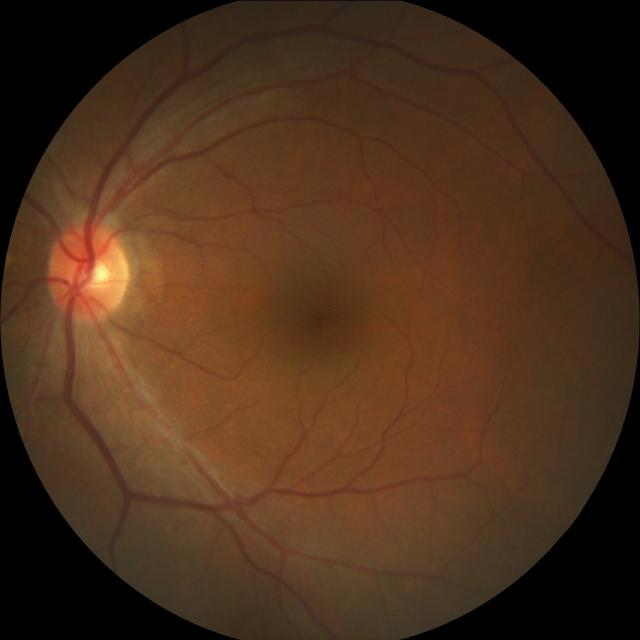OC: (80, 258, 110, 287)
OD: (45, 224, 128, 318)
